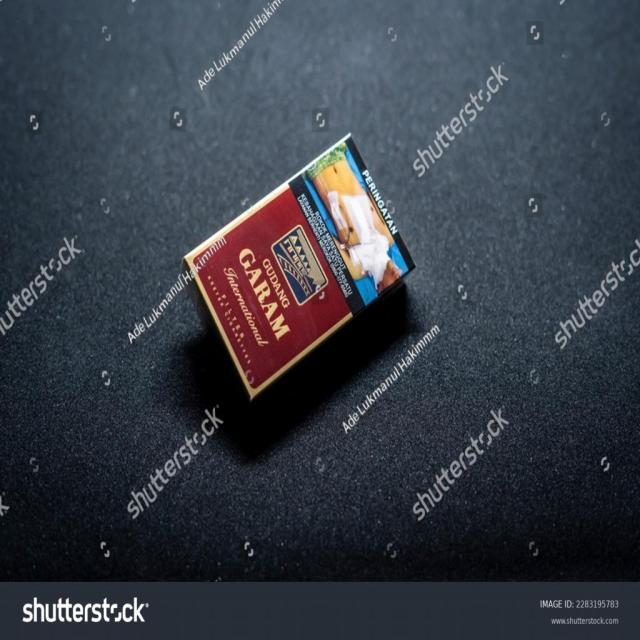smoking: (158, 132, 442, 400)
